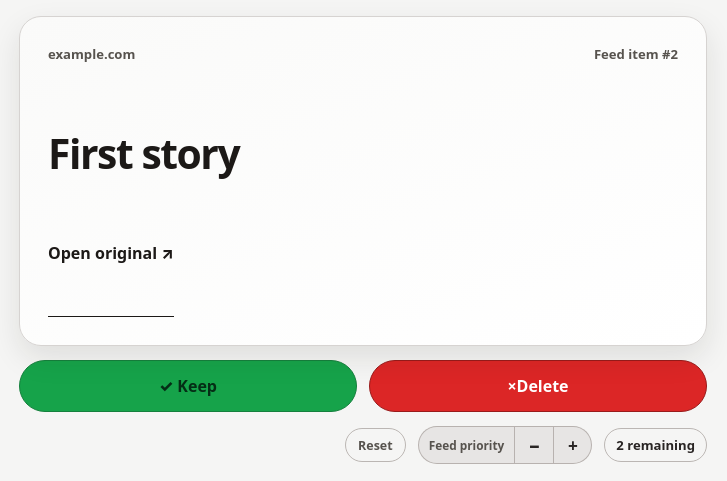
Test case: ReaderPage › resets kept items and persists the empty kept state
Expected: the heading "First story" is shown, top-left (48, 125), bottom-right (239, 181)
What coordinates should you click on to do the following:
click the button "✓ Keep"
I would click on:
 (188, 386)
Its box is top-left (19, 360), bottom-right (357, 412).
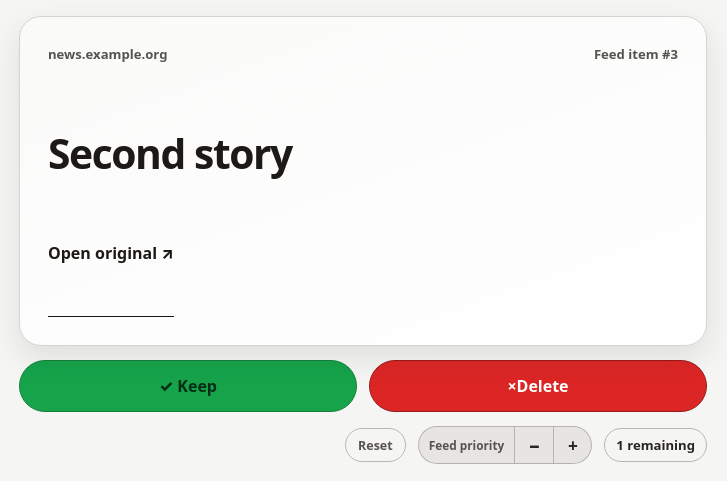
Expected: the heading "Second story" is shown, top-left (48, 125), bottom-right (292, 181)
What coordinates should you click on to do the following:
click the button with aria-label "Reset kept items"
I would click on:
 (375, 445)
Its box is top-left (345, 428), bottom-right (406, 462).
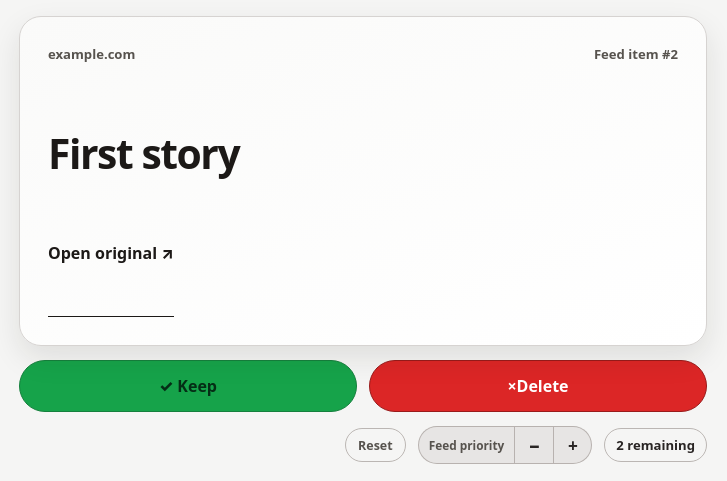
Expected: the heading "First story" is shown, top-left (48, 125), bottom-right (239, 181)
